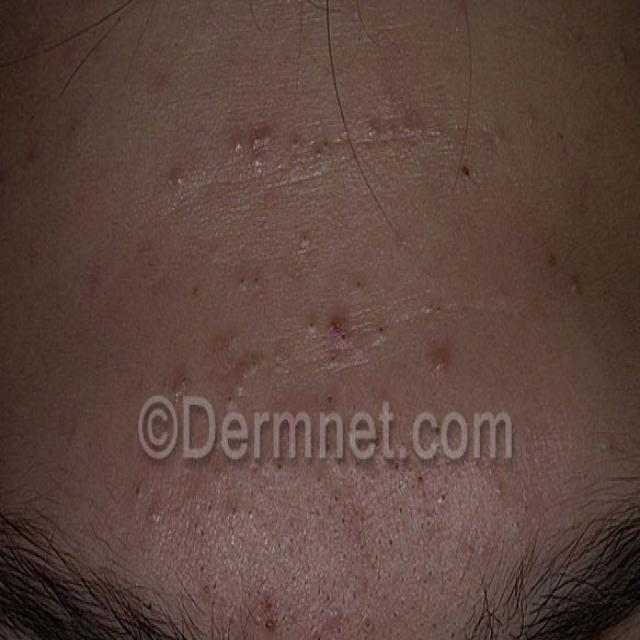Acne: (131, 54, 593, 224), (148, 255, 483, 427), (109, 466, 427, 640), (0, 74, 129, 321)
